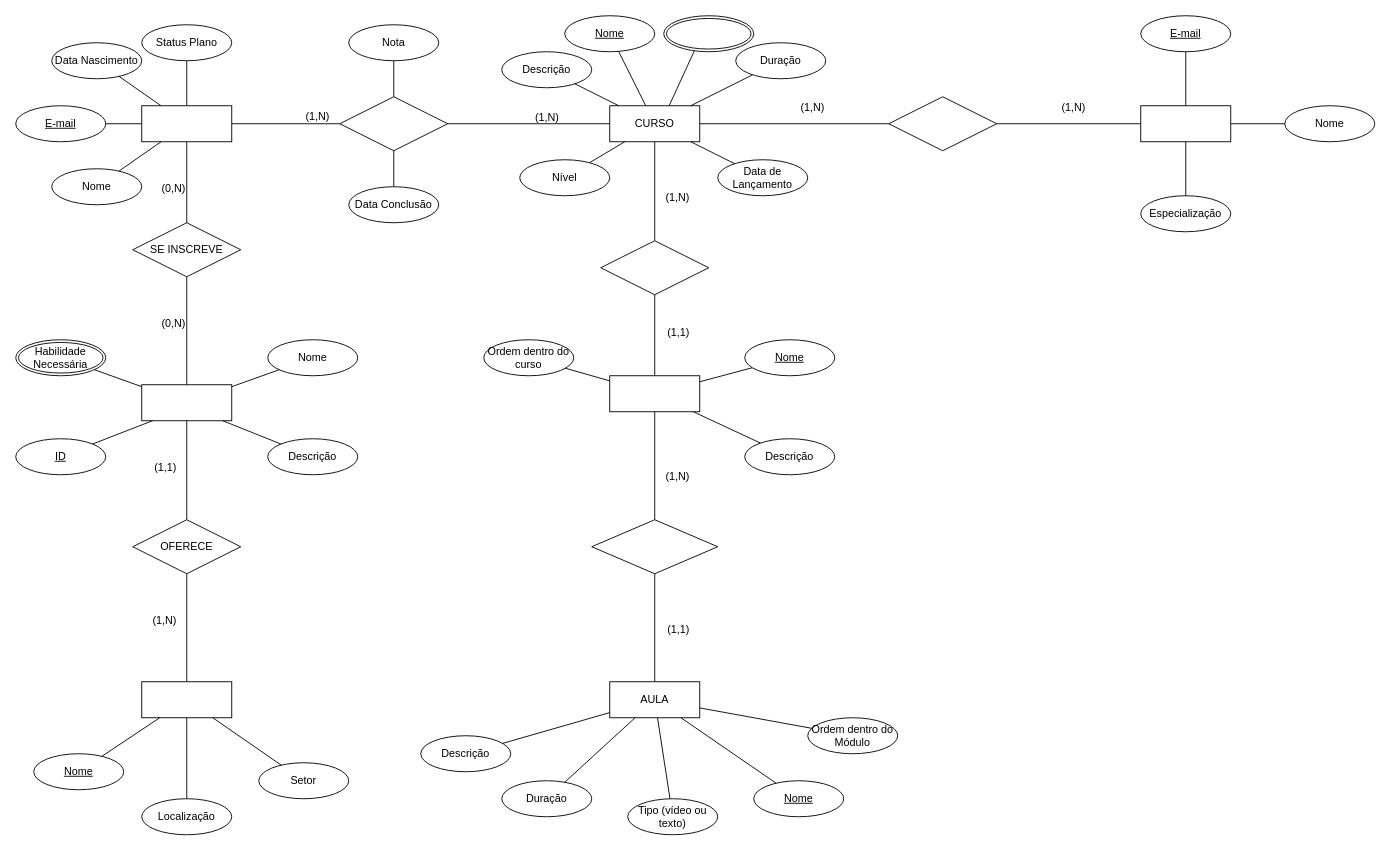
This 1391x851 diagram has some shape labels left out. The centre of each missing label's shape, as x and y in pixels:
ALUNO: (186,123)
CURSO CONTÉM: (654,267)
EMPRESA: (186,699)
ESTUDA: (393,123)
Habilidade Adquirida: (708,33)
MINISTRA: (942,123)
MÓDULO: (654,393)
MÓDULO CONTÉM: (654,546)
PROFESSOR: (1185,123)
VAGA: (186,402)
